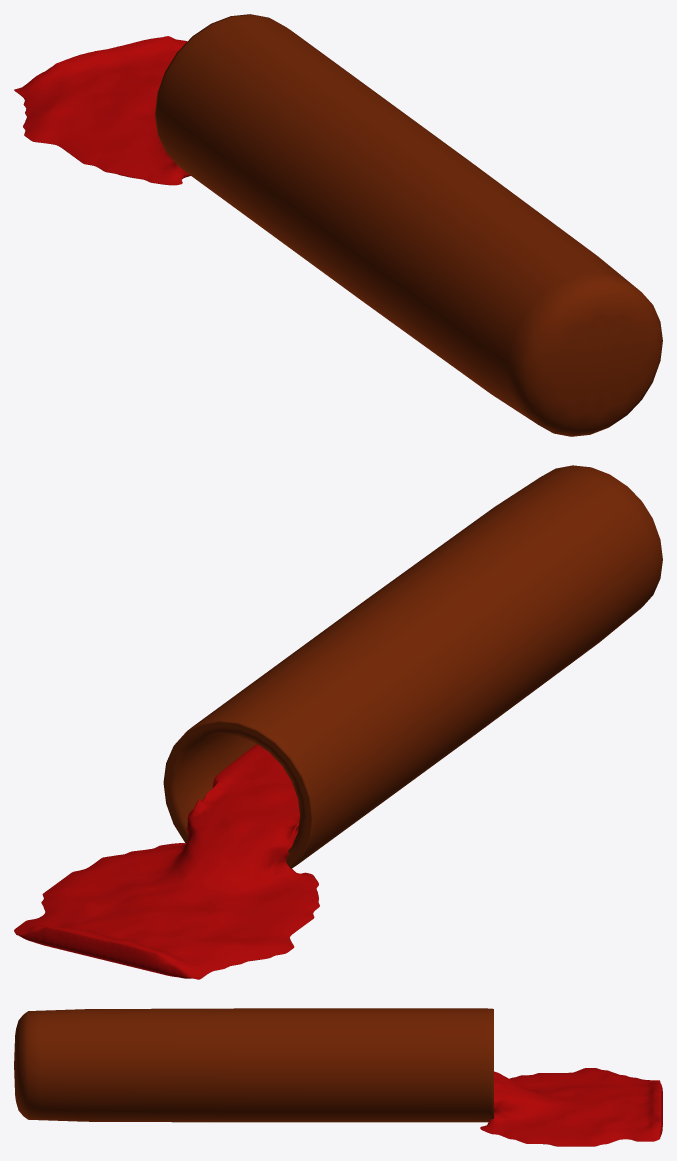
File: uploads_files_930517_tbsplg.fbx
3 views of the same model, one above another, from view 1: azimuth 30°, elevation 25°; view 2: azimuth 150°, elevation 25°; view 3: azimuth 270°, elevation 25° (orthographic). The views are drawn at different scales.
Parts seen in each view (by area): view 1: Cylinder, Cube; view 2: Cylinder, Cube; view 3: Cylinder, Cube.
Boxes of the visible parts, bbox=[...] form: Cylinder: bbox=[155, 14, 662, 436]; Cube: bbox=[14, 36, 190, 185]; Cylinder: bbox=[163, 465, 662, 868]; Cube: bbox=[14, 744, 319, 979]; Cylinder: bbox=[14, 1008, 493, 1122]; Cube: bbox=[480, 1068, 662, 1146].
Bounding box in the file's own units: 466 × 287 × 1627.
